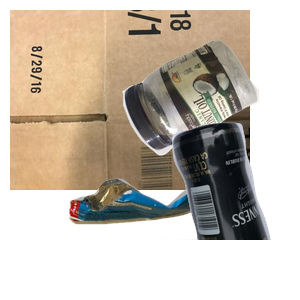cardboard: (10, 10, 250, 190)
glass: (106, 120, 300, 300)
plastic: (120, 37, 300, 185)
trash: (66, 173, 272, 300)
